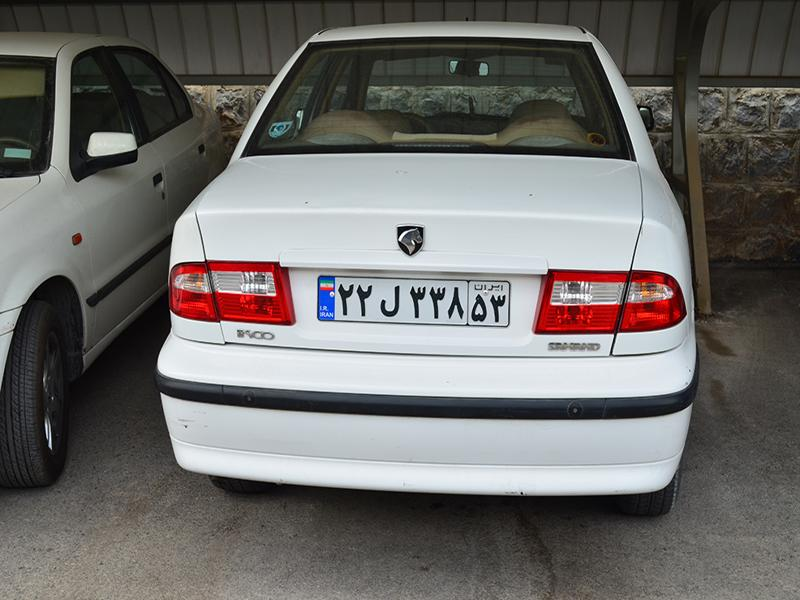Plate: (315, 276, 519, 333)
